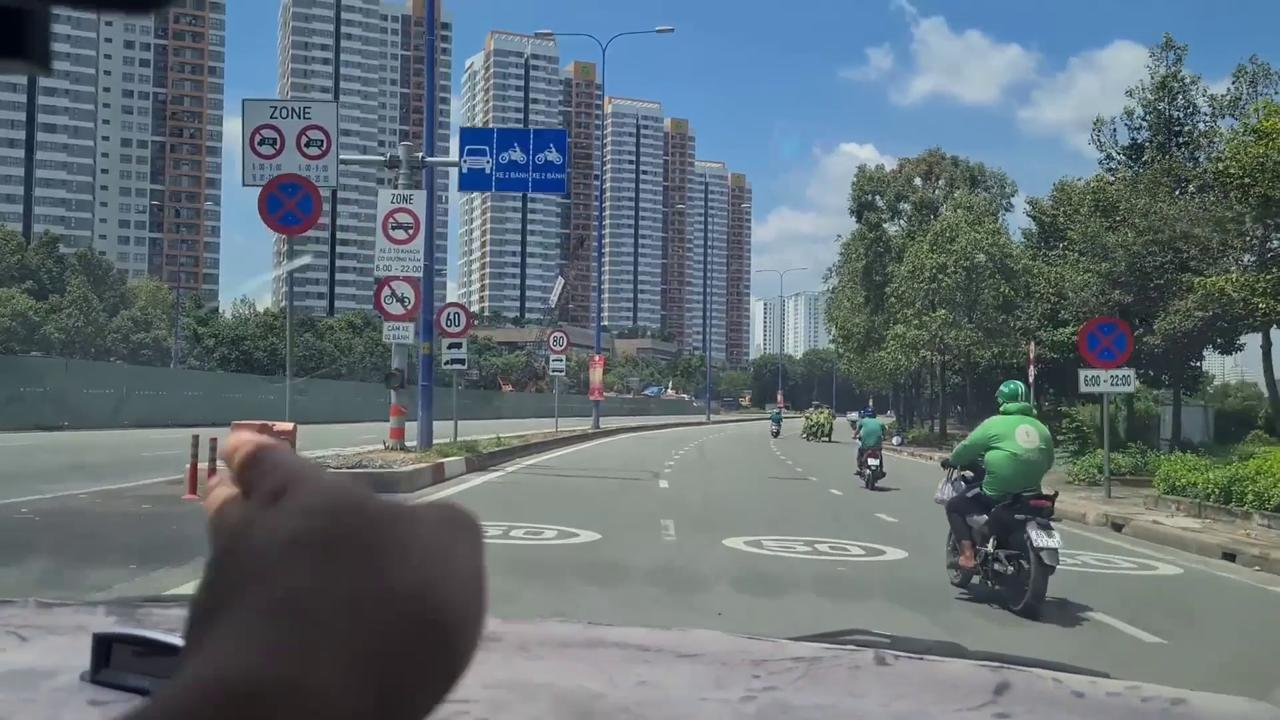Biển phụ: (1075, 367, 1139, 395), (380, 321, 418, 344), (441, 338, 470, 368), (549, 356, 567, 376)
Cấm cac phương tiện hoạt động trong khung giờ cố định: (241, 97, 341, 188), (372, 188, 426, 278)
Cấm dừng - Cấm đỗ: (257, 174, 322, 236), (1073, 312, 1138, 369)
Cấm xe máy: (372, 275, 422, 321)
GIơi hạn tốc độ 60Km/h: (435, 298, 473, 337)
Giới hạn tốc độ 80Km/h: (546, 330, 571, 354)
Làn đường cho từng xe: (453, 124, 568, 195)
